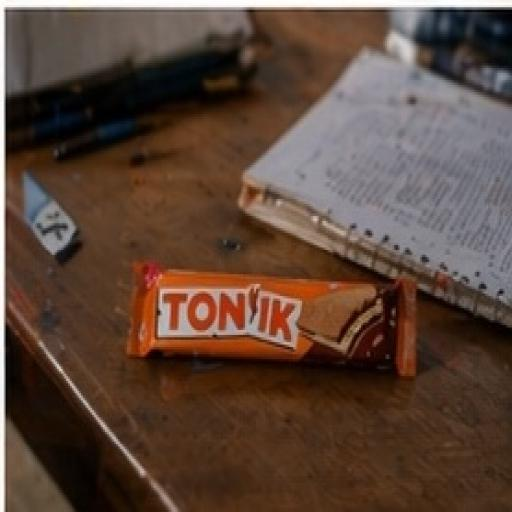tonik: (53, 214, 443, 412)
